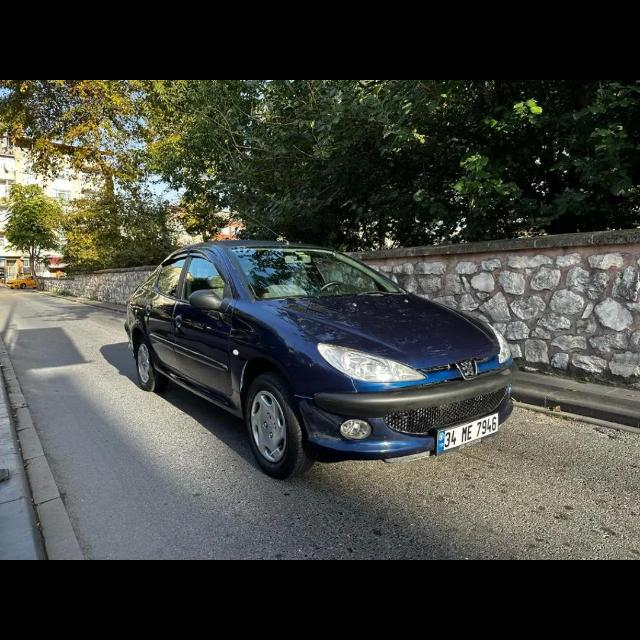Plaka: (440, 413, 500, 451)
